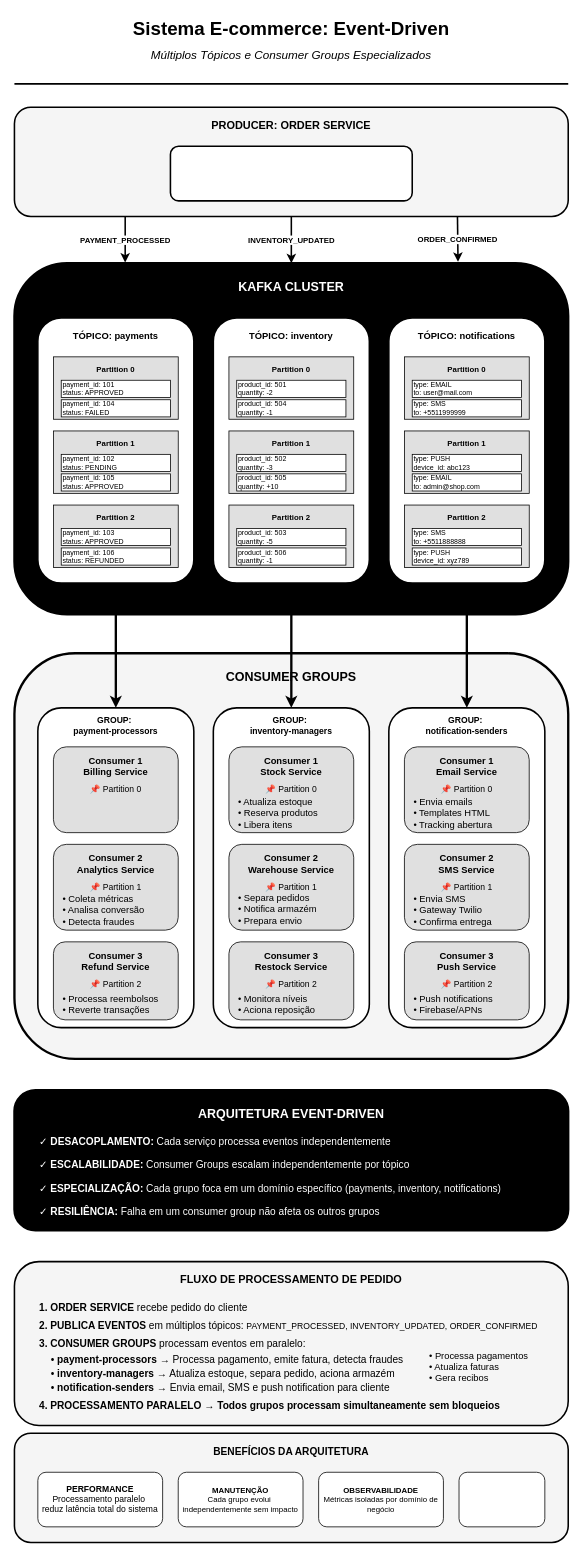
The diagram is 583 pixels wide and 1556 high, and some of its shapes have lost their labels. Each missing label, with the box of its shape:
CONFIABILIDADE Falhas isoladas não propagam entre serviços: (458, 1471, 545, 1527)
ORDER SERVICE Processa pedidos e publica eventos: (169, 145, 413, 201)
